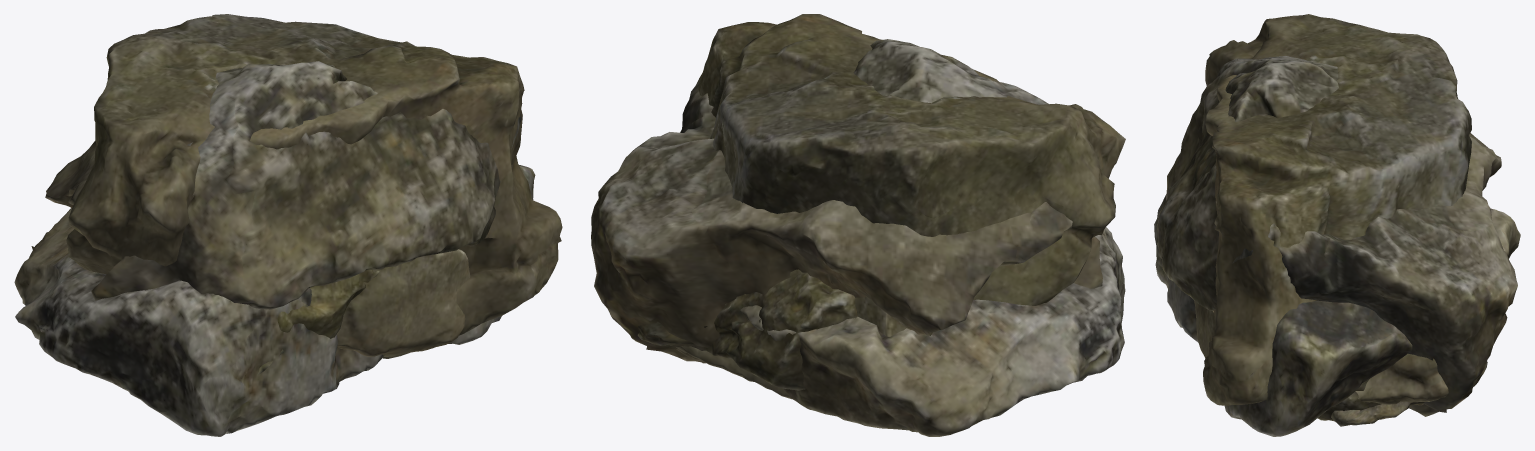
File: rock_moss_set_02.glb
3 renders of one model, left to right at view 1: azimuth 30°, elevation 25°; view 2: azimuth 150°, elevation 25°; view 3: azimuth 270°, elevation 25°, orthographic. The views are drawn at different scales.
Visible parts, largest first — view 1: rock_moss_set_02_6, rock_moss_set_02_4, rock_moss_set_02_3, rock_moss_set_02_0, rock_moss_set_02_5; view 2: rock_moss_set_02_6, rock_moss_set_02_4, rock_moss_set_02_3, rock_moss_set_02_5, rock_moss_set_02_0; view 3: rock_moss_set_02_6, rock_moss_set_02_4, rock_moss_set_02_3, rock_moss_set_02_0, rock_moss_set_02_2, rock_moss_set_02_5.
Part boxes in pixels (left/top/right/bottom): rock_moss_set_02_6: left=66, top=14, right=562, bottom=358; rock_moss_set_02_4: left=45, top=61, right=521, bottom=309; rock_moss_set_02_3: left=14, top=165, right=535, bottom=436; rock_moss_set_02_0: left=337, top=249, right=470, bottom=356; rock_moss_set_02_5: left=257, top=270, right=379, bottom=375; rock_moss_set_02_6: left=696, top=14, right=1125, bottom=305; rock_moss_set_02_4: left=591, top=39, right=1102, bottom=363; rock_moss_set_02_3: left=740, top=227, right=1125, bottom=436; rock_moss_set_02_5: left=637, top=272, right=857, bottom=390; rock_moss_set_02_0: left=674, top=269, right=906, bottom=399; rock_moss_set_02_6: left=1203, top=14, right=1471, bottom=405; rock_moss_set_02_4: left=1157, top=56, right=1517, bottom=416; rock_moss_set_02_3: left=1154, top=194, right=1520, bottom=436; rock_moss_set_02_0: left=1194, top=300, right=1448, bottom=404; rock_moss_set_02_2: left=1331, top=401, right=1411, bottom=426; rock_moss_set_02_5: left=1317, top=361, right=1487, bottom=420.
Bounding box in the file's own units: 2.2 × 1.31 × 1.55.
1 material, 1 textured.
